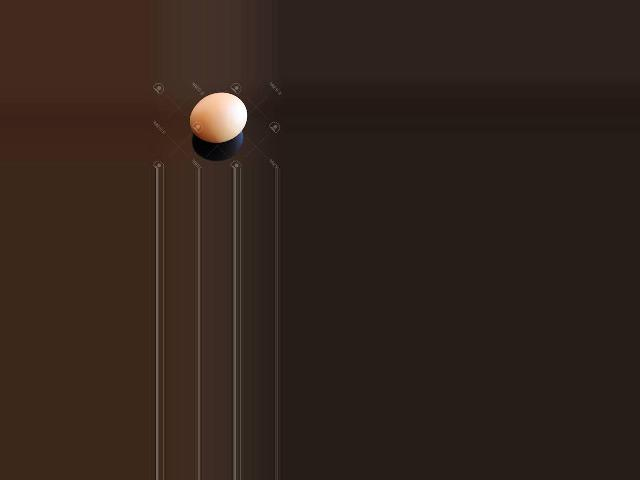egg: (189, 92, 247, 143)
